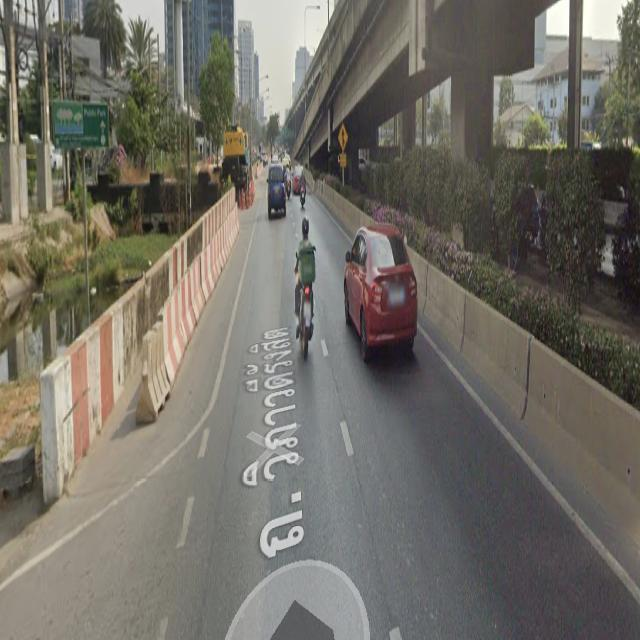fallen_object: (95, 250, 189, 440), (26, 319, 123, 489), (166, 202, 236, 301)
